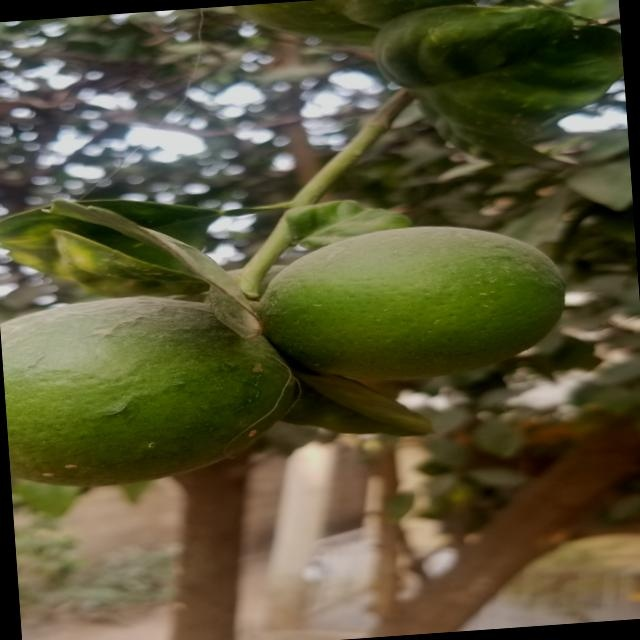agrume: (254, 206, 590, 402), (0, 283, 269, 501)
